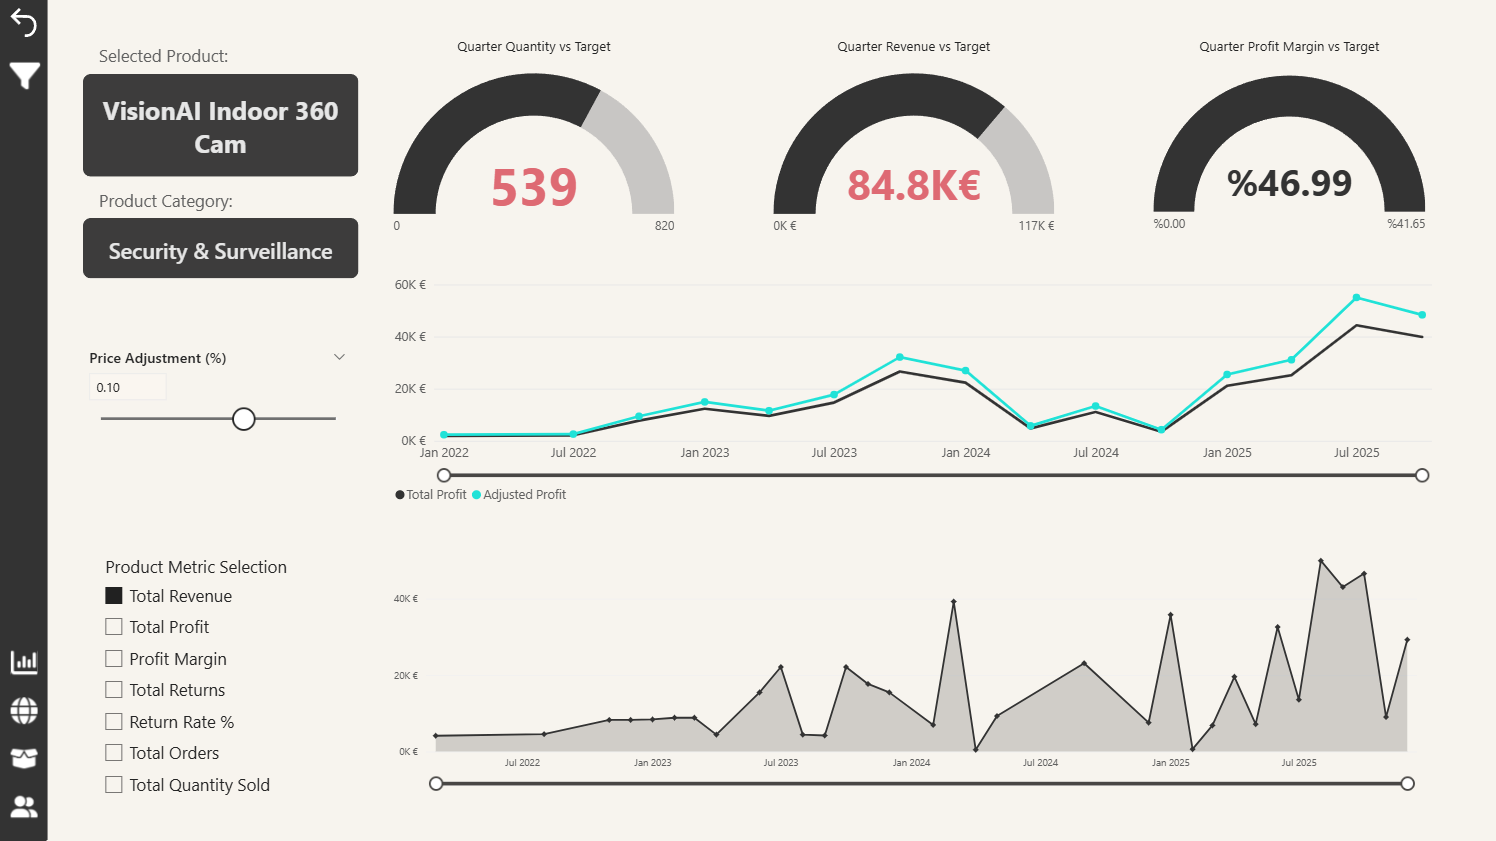

The dashboard page shown, as its layout file describes it:
{"tool":"powerbi","page":{"name":"Product 360","canvas":[1664,936],"ordinal":2},"visuals":[{"type":"gauge","title":"Quarter Revenue vs Target","fields":{"MaxValue":["Key Measures.Revenue Target"],"Y":["Key Measures.Total Revenue"]},"box":[843.5,41.9,344.3,250],"z":0},{"type":"actionButton","box":[7.7,714.4,64,46.1],"z":0,"group":"g1"},{"type":"gauge","title":"Quarter Profit Margin vs Target","fields":{"MaxValue":["Key Measures.Previous Quarter Profit Margin"],"Y":["Key Measures.Profit Margin"]},"box":[1265.7,41.9,334.3,250],"z":1000},{"type":"actionButton","box":[7.7,767.7,64,46.1],"z":1000,"group":"g1"},{"type":"gauge","title":"Quarter Quantity vs Target","fields":{"MaxValue":["Key Measures.Quantity Target"],"Y":["Key Measures.Total Quantity Sold"]},"box":[421.4,41.9,344.3,250],"z":2000},{"type":"actionButton","box":[7.7,821,64,46.1],"z":2000,"group":"g1"},{"type":"slicer","fields":{"Values":["Price Adjustment (%).Price Adjustment (%)"]},"box":[90.7,387.9,300,158.8],"z":3000},{"type":"actionButton","box":[7.7,874.3,64,46.1],"z":3000,"group":"g1"},{"type":"lineChart","fields":{"Category":["Calendar.Start of Year","Calendar.Start of Quarter","Calendar.Start of Month","Calendar.Start of Week"],"Y":["Key Measures.Total Profit","Key Measures.Adjusted Profit"]},"box":[421.9,291.7,1200,288.8],"z":4000},{"type":"textbox","box":[110,50,201.4,32.9],"z":5000},{"type":"textbox","box":[110.1,211.4,280,31.4],"z":6000},{"type":"cardVisual","fields":{"Data":["Key Measures.Product Breadcrumb"]},"box":[92.5,242.9,306.7,67],"z":7000},{"type":"cardVisual","fields":{"Data":["Min(Products.ProductName)"]},"box":[92.3,83.8,306.7,114.4],"z":8000},{"type":"slicer","fields":{"Values":["Product Metric Selection.Product Metric Selection"]},"box":[109.4,617.9,272.5,292.5],"z":9000},{"type":"areaChart","title":"Return Trending","fields":{"Category":["Calendar.Start of Year","Calendar.Start of Quarter","Calendar.Start of Month","Calendar.Start of Week"],"Y":["Key Measures.Total Revenue"]},"box":[421.4,597.6,1178.6,295.7],"z":10000},{"type":"shape","title":"Left Nav Background","box":[0,0,52.9,935.7],"z":11000},{"type":"group","id":"g1","title":"Navigation Buttons","box":[7.7,714.4,64,206],"z":12000},{"type":"actionButton","box":[7.1,64.3,45.7,40],"z":13000},{"type":"actionButton","box":[0,4.3,52.9,40],"z":14000}]}

Visuals, with their boxes on the page's 1664x936 design canvas (x1, y1, x2, y2). These are canvas units, not pixel positions in the 1496x841 screenshot, which may show the page scaled, cropped or inside an application window:
"Quarter Revenue vs Target" gauge: l=844, t=42, r=1188, b=292
actionButton: l=8, t=714, r=72, b=760
"Quarter Profit Margin vs Target" gauge: l=1266, t=42, r=1600, b=292
actionButton: l=8, t=768, r=72, b=814
"Quarter Quantity vs Target" gauge: l=421, t=42, r=766, b=292
actionButton: l=8, t=821, r=72, b=867
slicer - Price Adjustment (%).Price Adjustment (%): l=91, t=388, r=391, b=547
actionButton: l=8, t=874, r=72, b=920
lineChart - Calendar.Start of Year x Calendar.Start of Quarter: l=422, t=292, r=1622, b=580
textbox: l=110, t=50, r=311, b=83
textbox: l=110, t=211, r=390, b=243
cardVisual - Key Measures.Product Breadcrumb: l=92, t=243, r=399, b=310
cardVisual - Min(Products.ProductName): l=92, t=84, r=399, b=198
slicer - Product Metric Selection.Product Metric Selection: l=109, t=618, r=382, b=910
"Return Trending" areaChart: l=421, t=598, r=1600, b=893
"Left Nav Background" shape: l=0, t=0, r=53, b=936
"Navigation Buttons" group: l=8, t=714, r=72, b=920
actionButton: l=7, t=64, r=53, b=104
actionButton: l=0, t=4, r=53, b=44
